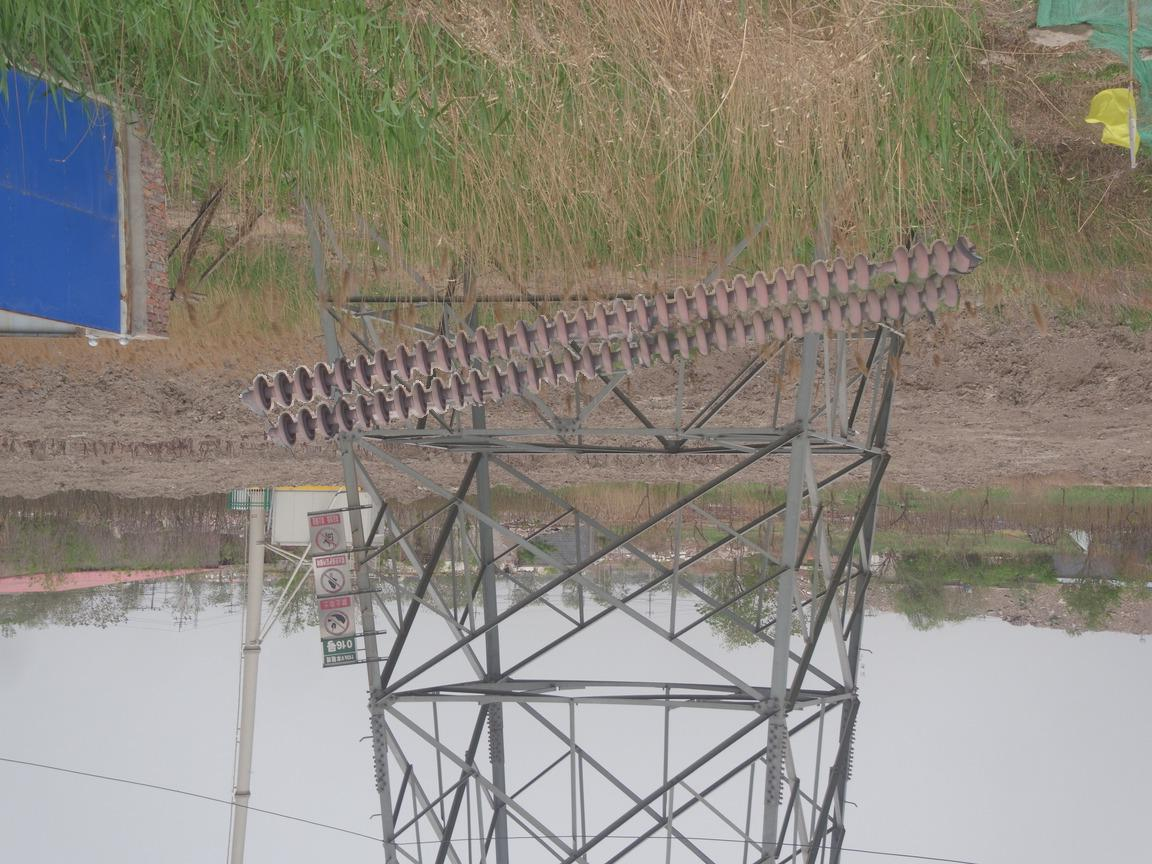insulator: (249, 228, 984, 447)
insulator_stringdrop: (851, 244, 913, 293)
